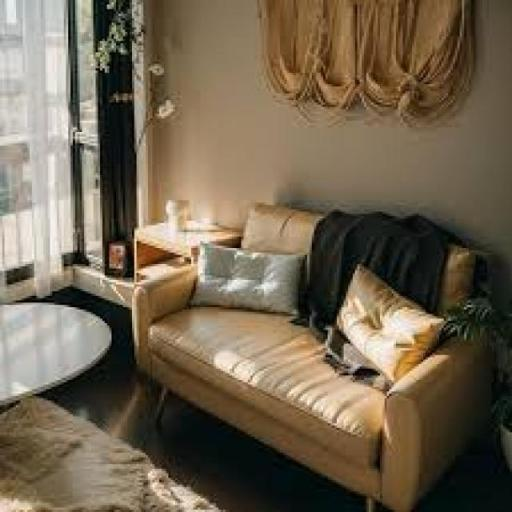sofa: (125, 191, 503, 512)
